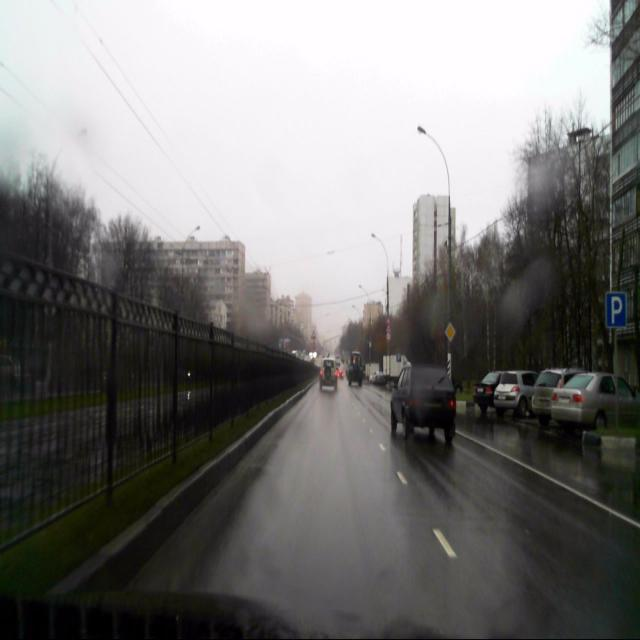road sign: (606, 292, 626, 330), (445, 323, 455, 341)
